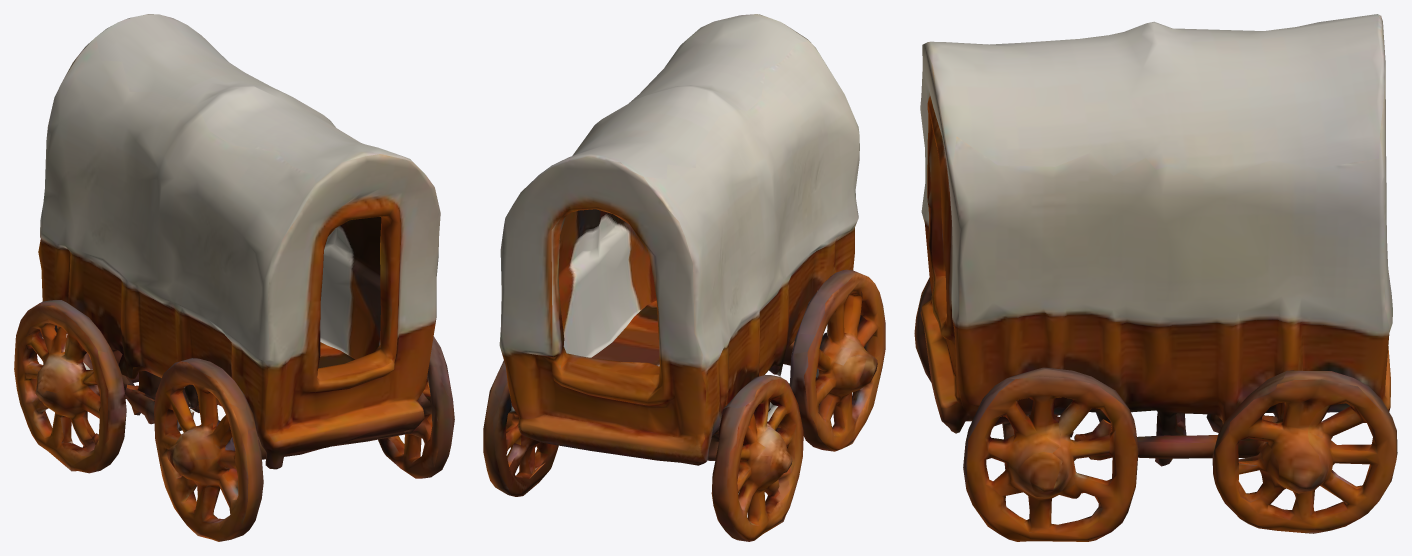
File: prop_covered_wagon.glb
3 views of the same model, side by side, from view 1: azimuth 30°, elevation 25°; view 2: azimuth 150°, elevation 25°; view 3: azimuth 270°, elevation 25° (orthographic). The views are drawn at different scales.
Parts seen in each view (by area): view 1: geometry_0; view 2: geometry_0; view 3: geometry_0.
Part boxes in pixels (<box>): geometry_0: <box>14,14,454,541</box>; geometry_0: <box>483,14,885,541</box>; geometry_0: <box>914,14,1397,541</box>.
Bounding box in the file's own units: 0.9969 × 1.19 × 1.18.
1 material, 1 textured.
